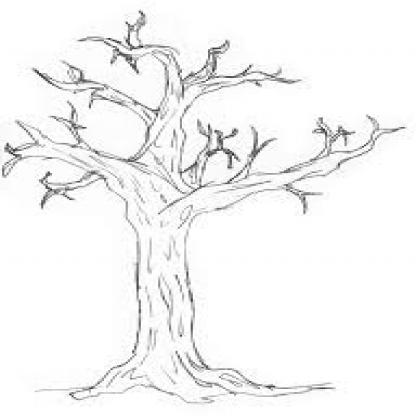branch_sharp: (1, 10, 405, 214)
root_upside: (68, 368, 314, 404)
trunk_bark: (133, 241, 200, 354)
